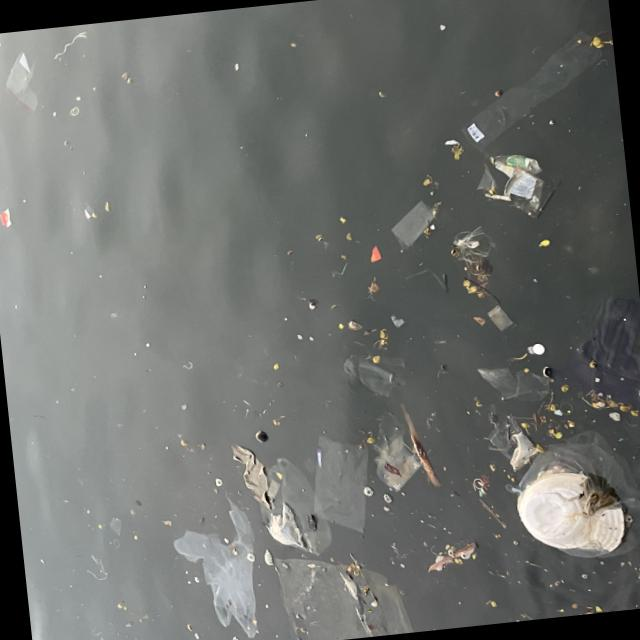foam: (515, 468, 627, 560)
plastic bag: (171, 499, 252, 638), (277, 560, 407, 637), (253, 459, 333, 554)
